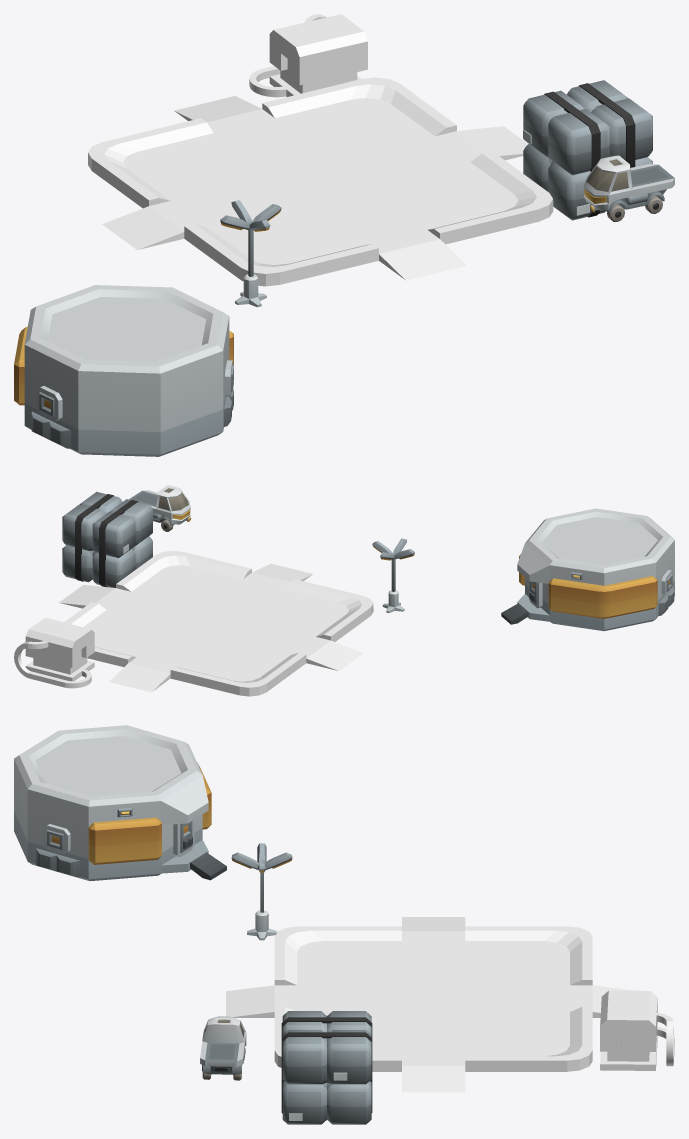
File: Dock_2.glb
3 renders of one model, top to bottom at view 1: azimuth 30°, elevation 25°; view 2: azimuth 150°, elevation 25°; view 3: azimuth 270°, elevation 25°, orthographic. The views are drawn at different scales.
Parts seen in each view (by area): view 1: Plane, basemodule_A.001, cargo_B_stacked.001, machine_generator, spacetruck.001, lights.002, cable; view 2: Plane, basemodule_A.001, cargo_B_stacked.001, machine_generator, spacetruck.001, cable, lights.002; view 3: Plane, basemodule_A.001, cargo_B_stacked.001, machine_generator, spacetruck.001, lights.002, cable.
Part boxes in pixels (<box>): Plane: <box>88,77,553,286</box>; basemodule_A.001: <box>14,285,233,456</box>; cargo_B_stacked.001: <box>523,80,652,220</box>; machine_generator: <box>269,14,367,96</box>; spacetruck.001: <box>583,155,674,221</box>; lights.002: <box>220,200,281,307</box>; cable: <box>249,14,326,97</box>; Plane: <box>59,550,373,696</box>; basemodule_A.001: <box>501,508,674,631</box>; cargo_B_stacked.001: <box>62,491,152,587</box>; machine_generator: <box>25,617,94,681</box>; spacetruck.001: <box>129,485,191,531</box>; cable: <box>14,641,91,688</box>; lights.002: <box>372,538,414,612</box>; Plane: <box>226,917,634,1092</box>; basemodule_A.001: <box>14,725,226,881</box>; cargo_B_stacked.001: <box>281,1011,372,1124</box>; machine_generator: <box>600,990,657,1070</box>; spacetruck.001: <box>200,1016,246,1080</box>; lights.002: <box>231,843,292,940</box>; cable: <box>656,1012,674,1066</box>.
Bounding box in the file's own units: 8.4 × 1.15 × 7.42.
5 materials, 4 textured.
